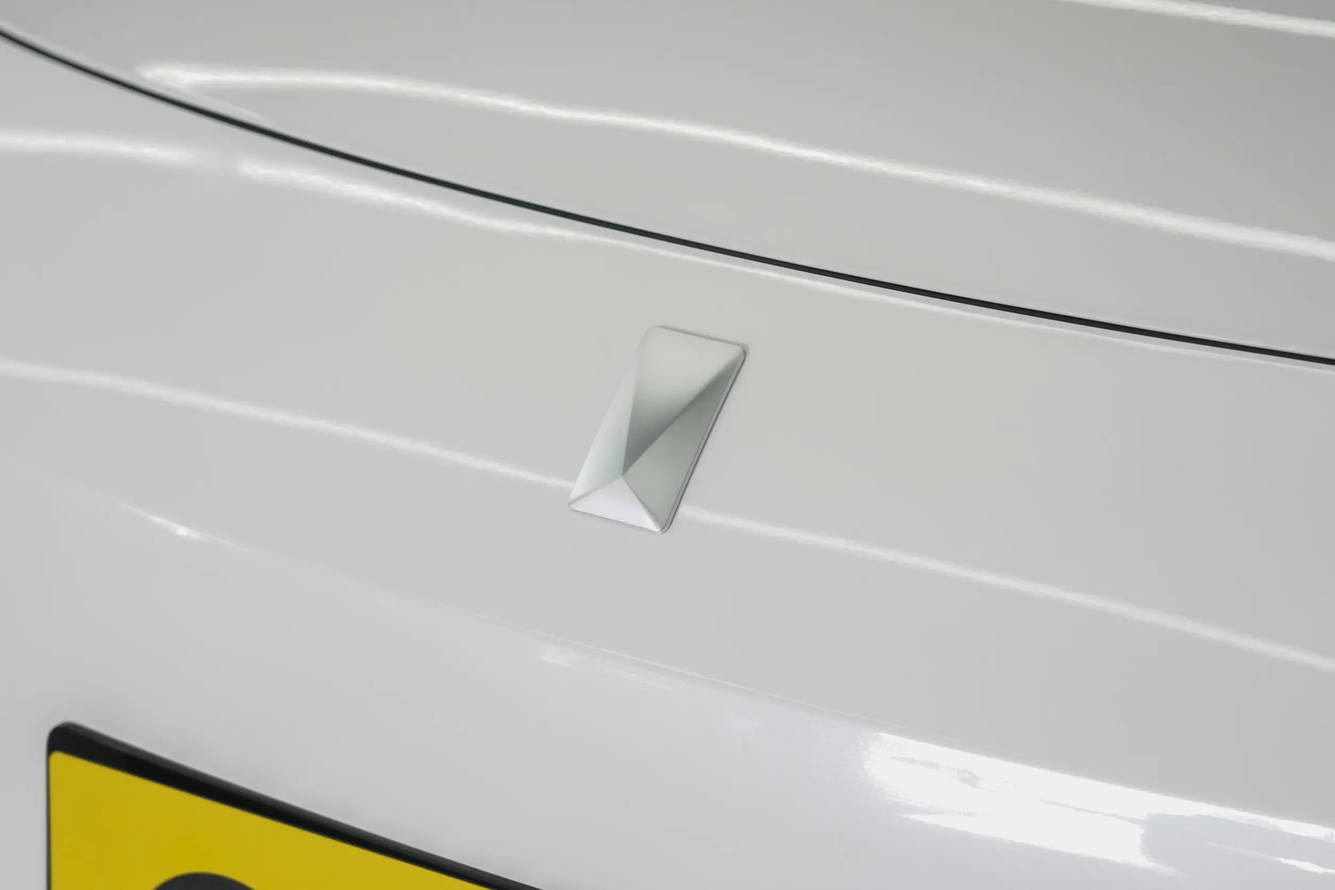AVATR: (568, 327, 745, 534)
